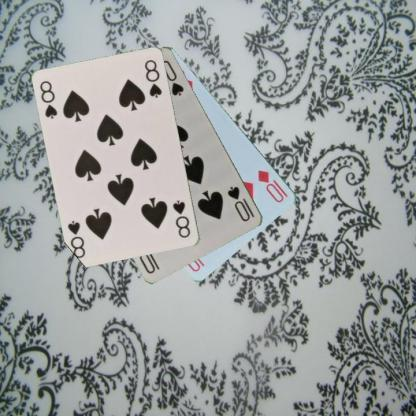10d: (256, 167, 286, 204)
10s: (225, 184, 256, 223)
8s: (170, 198, 192, 240), (37, 78, 59, 120)
